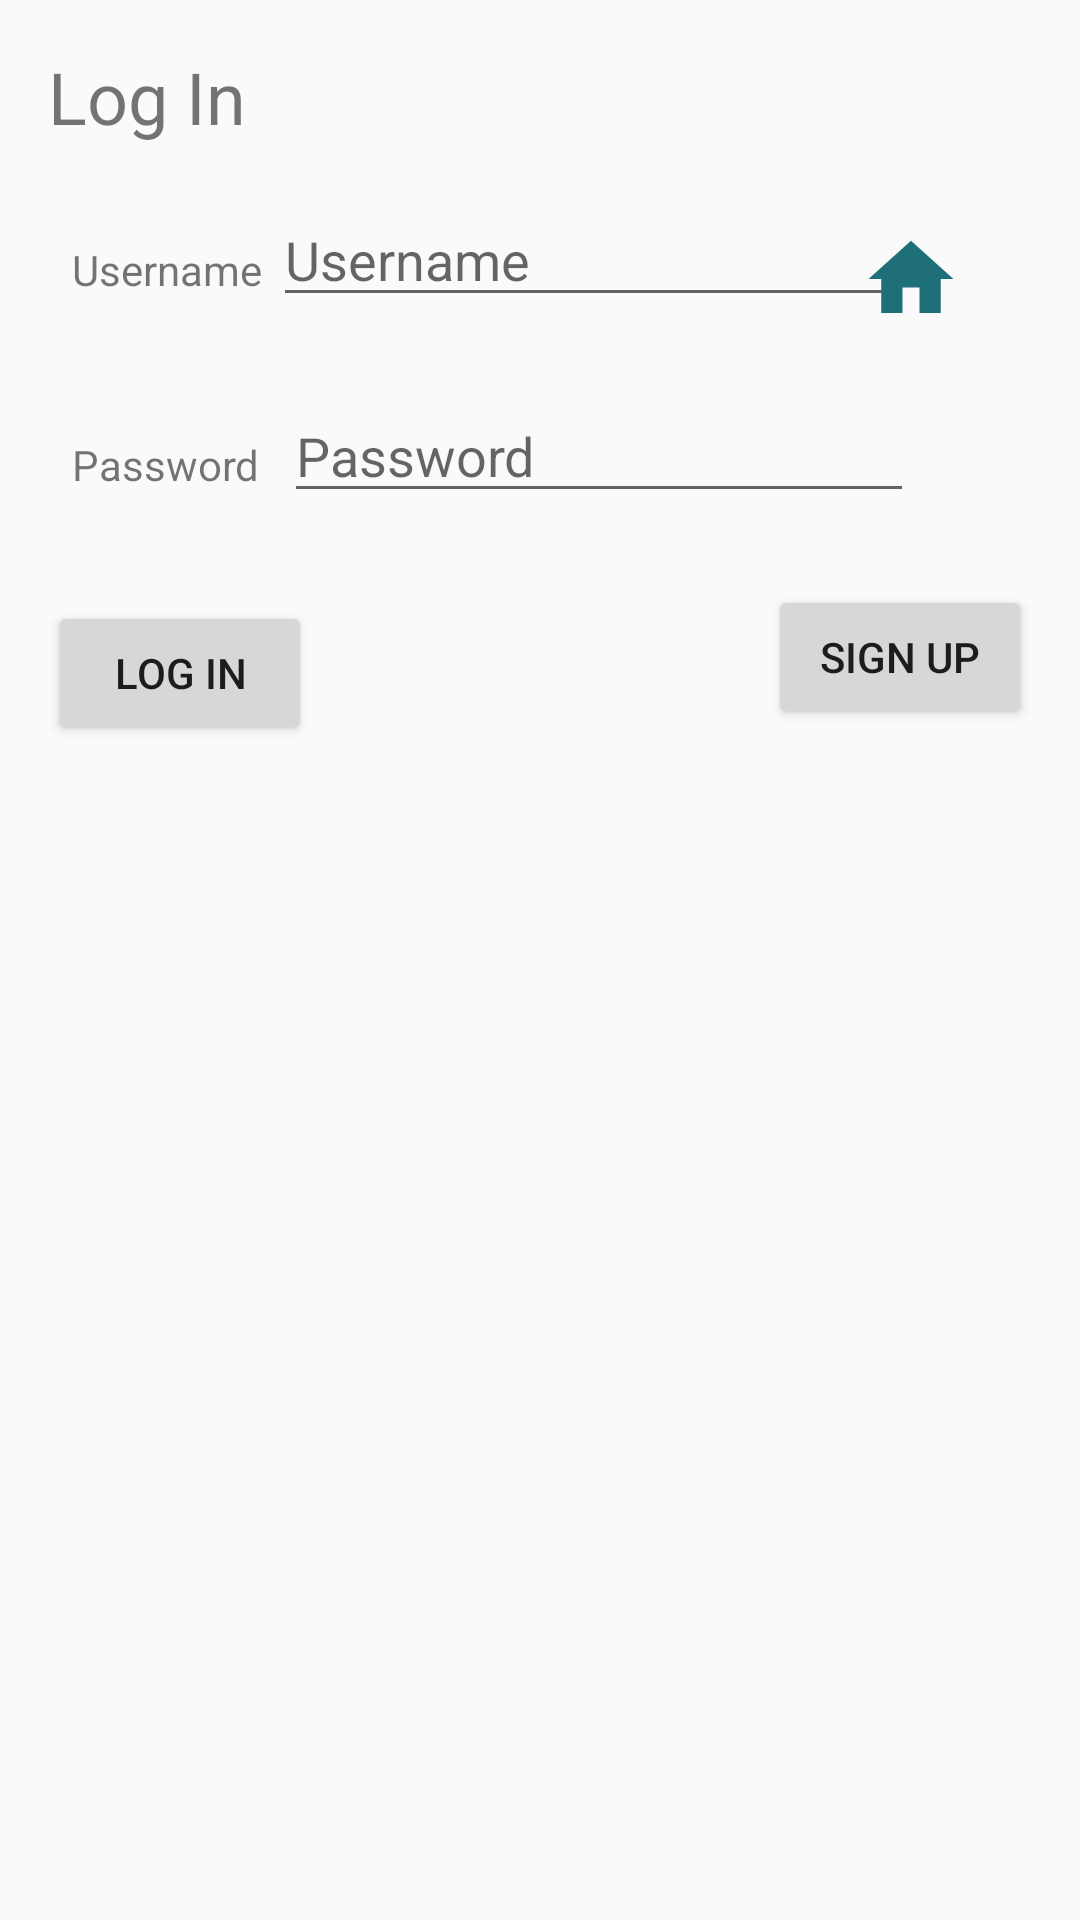

Named icons in this screenshot (1080px x 1920px) and their bounding boxes, [x1, y1, x2, y2]:
home: [849, 241, 953, 313]
